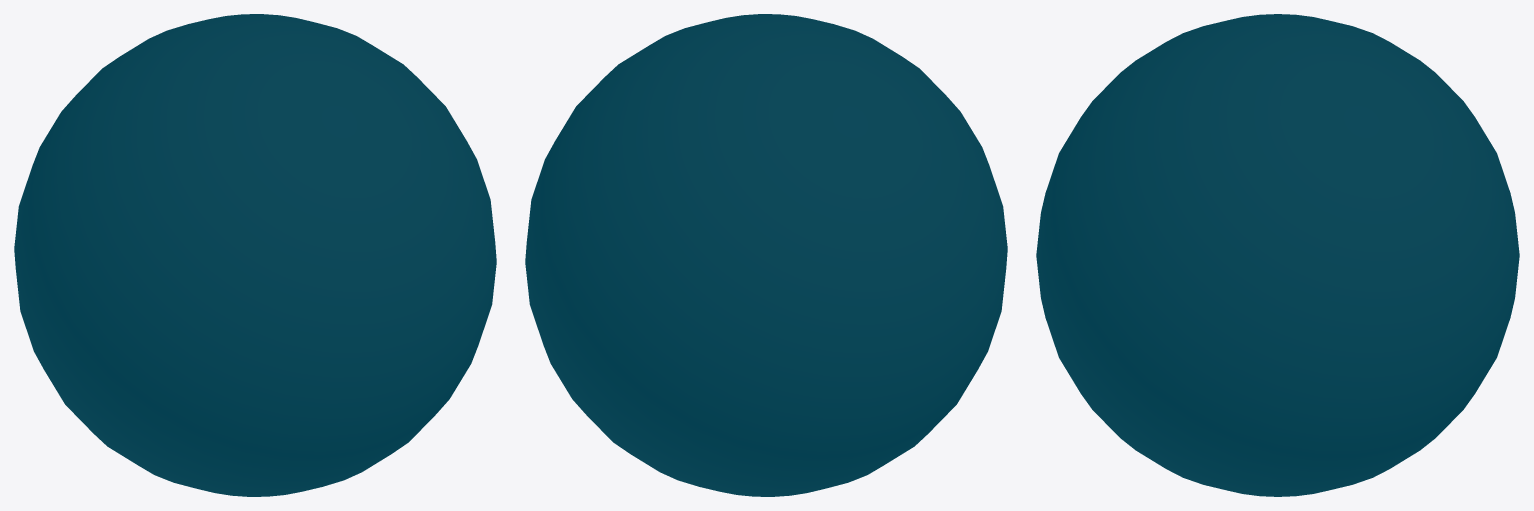
Rendered from Brain_003.gltf.
3 renders of one model, left to right at view 1: azimuth 30°, elevation 25°; view 2: azimuth 150°, elevation 25°; view 3: azimuth 270°, elevation 25°, orthographic.
Parts seen in each view (by area): view 1: BrainDomo; view 2: BrainDomo; view 3: BrainDomo.
Part boxes in pixels (x1,y1,x2,y2): BrainDomo: (14,14,496,496); BrainDomo: (525,14,1007,496); BrainDomo: (1036,14,1519,496).
Size of the model in its own units: 167 by 167 by 167.
